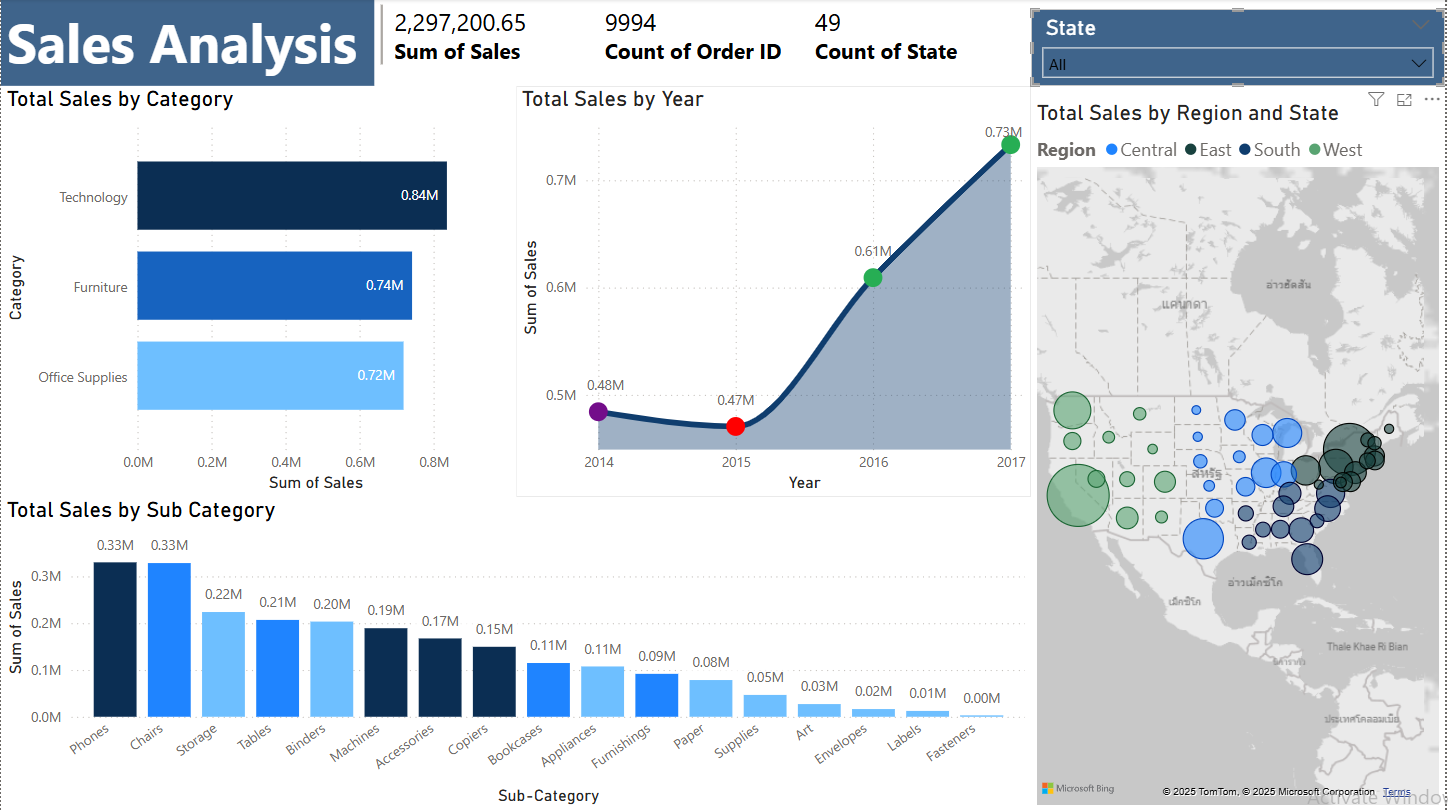

The dashboard page shown, as its layout file describes it:
{"tool":"powerbi","page":{"name":"Sales Analysis","canvas":[1280,720],"ordinal":0},"visuals":[{"type":"textbox","box":[0,0,331.4,77.4],"z":0},{"type":"lineChart","title":"Total Sales by Year","fields":{"Category":["DATASuperstore1.Order Date.Variation.Date Hierarchy.Year"],"Y":["Sum(DATASuperstore1.Sales)"]},"box":[456.7,77.4,456.7,364.4],"z":1000},{"type":"lineStackedColumnComboChart","title":"Total Sales by Sub Category","fields":{"Category":["DATASuperstore1.Sub-Category"],"Y":["Sum(DATASuperstore1.Sales)"]},"box":[0,441.9,913.3,277.9],"z":2000},{"type":"multiRowCard","fields":{"Values":["Sum(DATASuperstore1.Sales)","DATASuperstore1.Order ID","DATASuperstore1.State"]},"box":[331.4,0,581.9,77.4],"z":3000},{"type":"map","title":"Total Sales by Region and State","fields":{"Category":["DATASuperstore1.State"],"Series":["DATASuperstore1.Region"],"Size":["Sum(DATASuperstore1.Sales)"]},"box":[913.3,90,366.7,629.8],"z":4000},{"type":"barChart","title":"Total Sales by Category","fields":{"Category":["DATASuperstore1.Category"],"Y":["Sum(DATASuperstore1.Sales)"]},"box":[0,77.4,456.7,364.4],"z":5000},{"type":"slicer","fields":{"Values":["DATASuperstore1.State"]},"box":[913.3,9.1,366.7,68.3],"z":6000}]}

Visuals, with their boxes on the page's 1280x720 design canvas (x1, y1, x2, y2). These are canvas units, not pixel positions in the 1448x811 screenshot, which may show the page scaled, cropped or inside an application window:
textbox: (0,0,331,77)
"Total Sales by Year" lineChart: (457,77,913,442)
"Total Sales by Sub Category" lineStackedColumnComboChart: (0,442,913,720)
multiRowCard - Sum(DATASuperstore1.Sales) x DATASuperstore1.Order ID: (331,0,913,77)
"Total Sales by Region and State" map: (913,90,1280,720)
"Total Sales by Category" barChart: (0,77,457,442)
slicer - DATASuperstore1.State: (913,9,1280,77)
